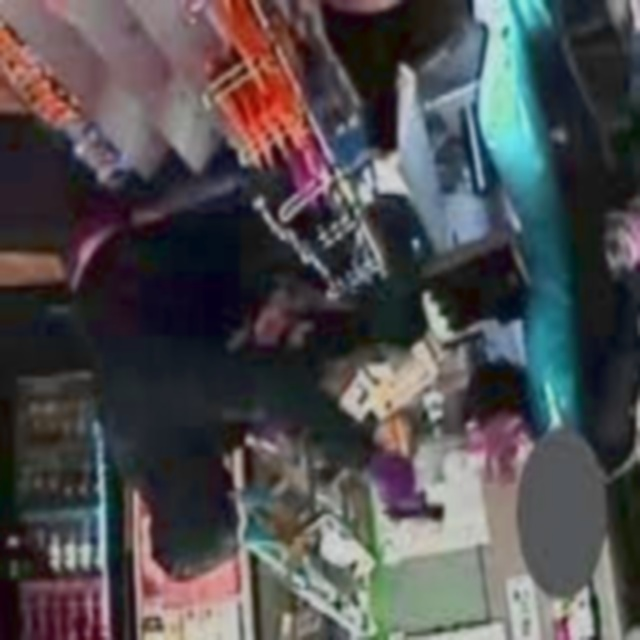gun: (377, 465, 447, 533)
